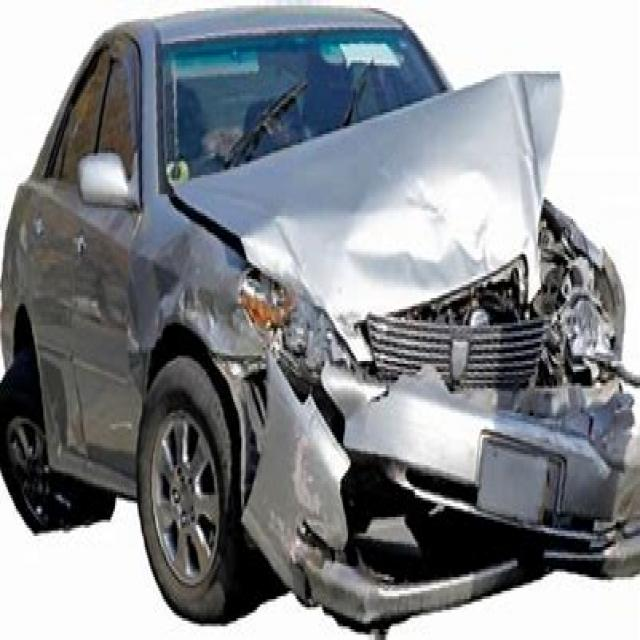Accident: (111, 50, 640, 640)
